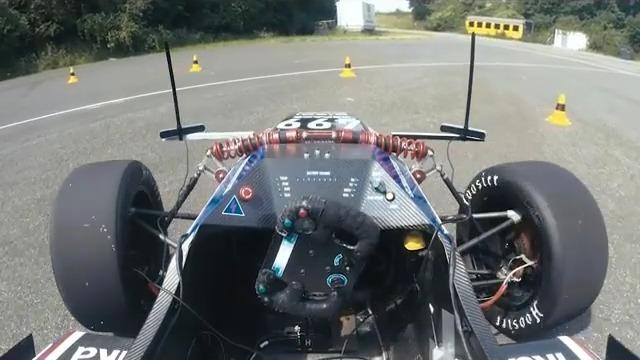yellow_cone: (545, 94, 574, 127), (340, 57, 358, 78), (188, 53, 204, 73), (66, 66, 79, 83)
